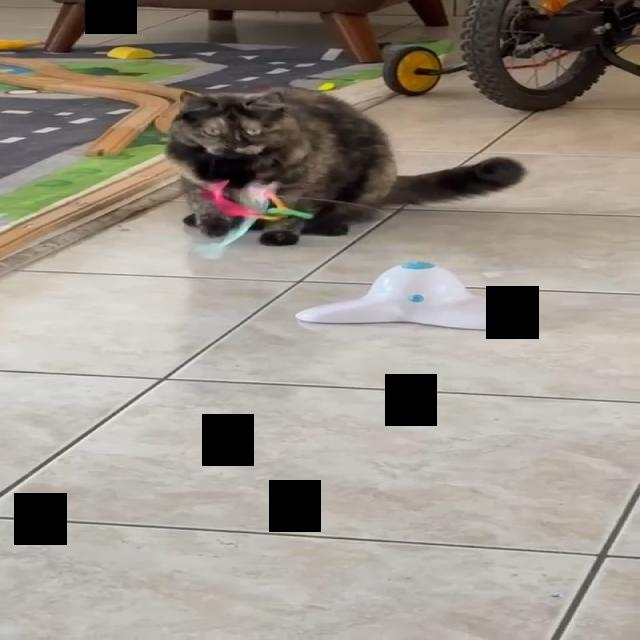authorized: (164, 85, 525, 242)
